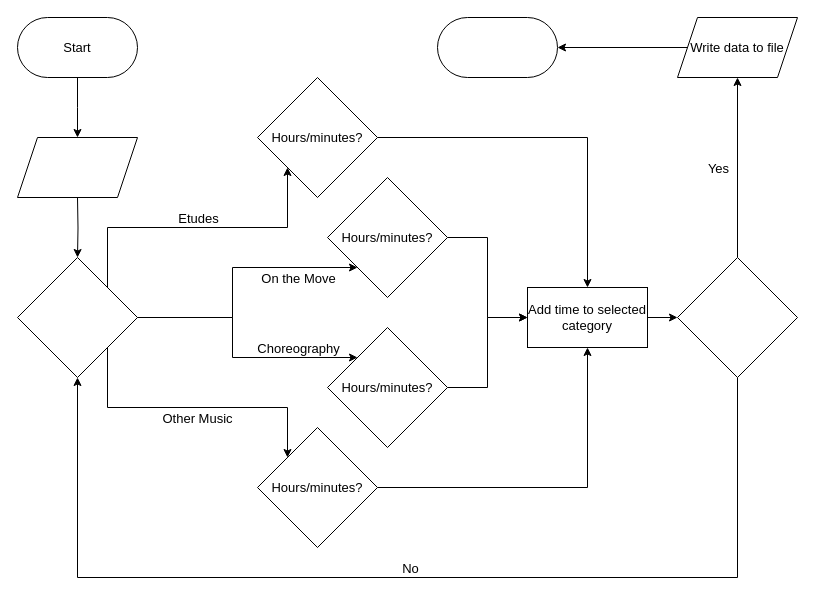
Some shapes in this 815 by 603 pixel diagram are drawn without their labels. Here are the shapes that lost their labels. From the top down, the centre of each, then its label:
point 497,47: End
point 77,167: Read data to file
point 77,317: Audition category?
point 737,317: Done?
